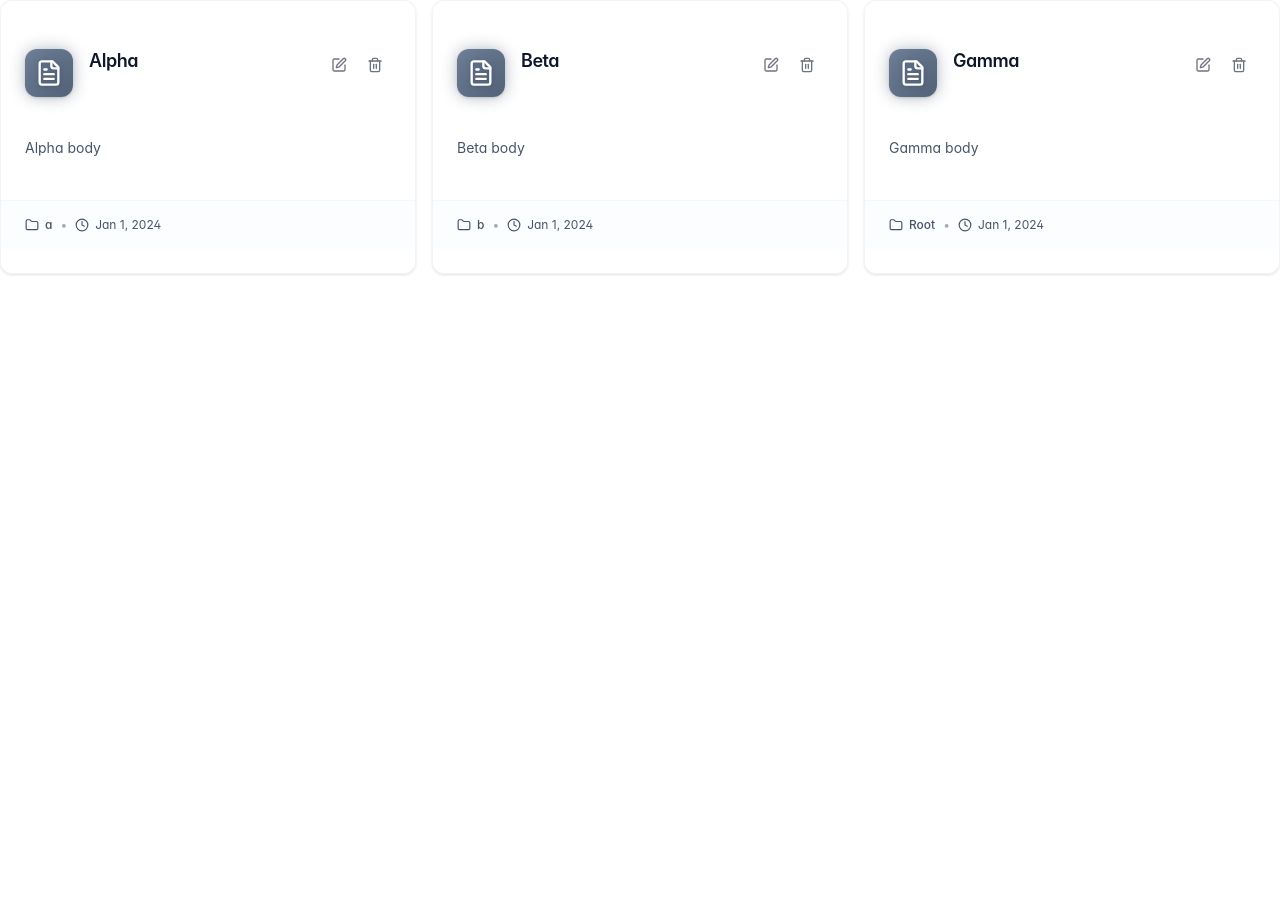
it: DocumentGrid › deletes a document after confirmation
What coordinates should you click on to do the following:
click the 3rd button titled "Delete document"
I would click on:
 (1239, 65)
Its box is [1223, 49, 1255, 81].
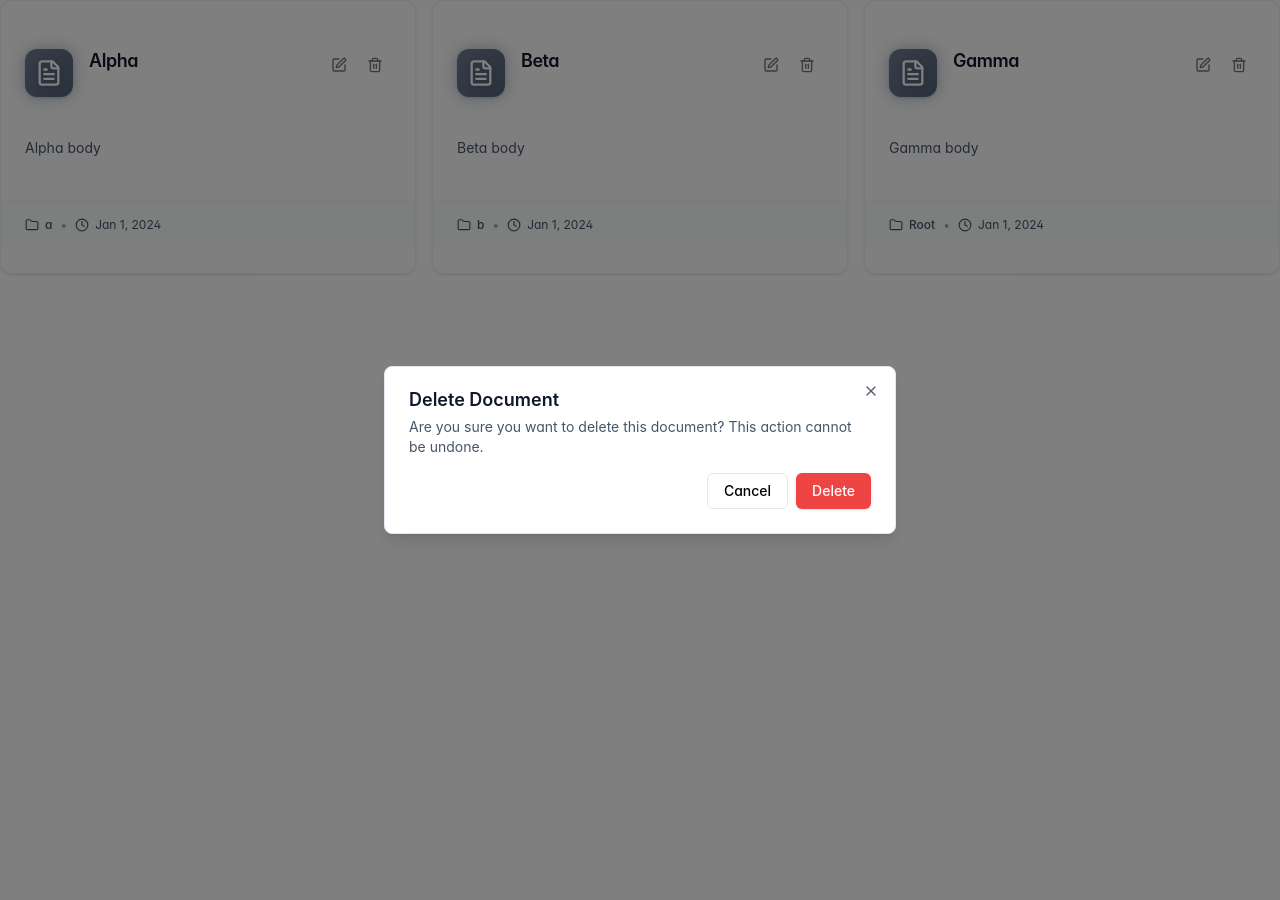
Now the heading "Delete Document" is shown, box [409, 389, 559, 410]
What coordinates should you click on to do the following:
click the button with test id "confirm-delete-button"
I would click on:
 (834, 491)
Its box is [796, 473, 871, 509].
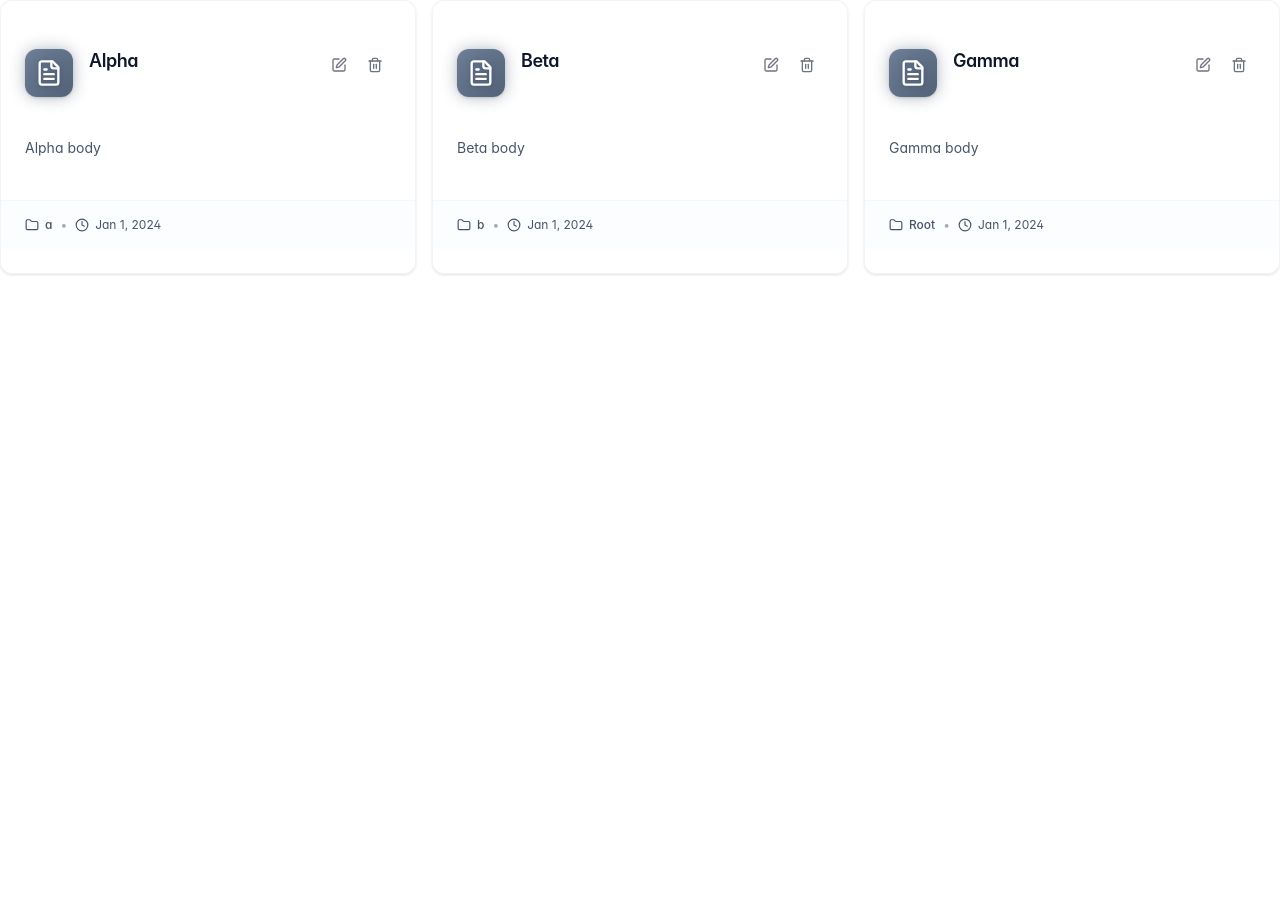
Now the heading "Delete Document" is gone
